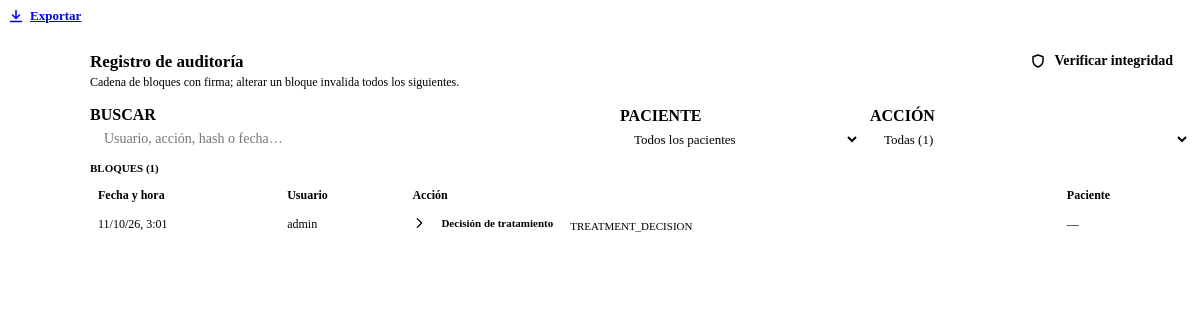
it: F2 (16) › la fila se despliega con el detalle y los hashes; la columna «Hash bloque» no existe
Expected: the text "abcdef0123456789abcdef" is not shown
Click the button "Decisión de tratamiento" at (487, 223), box left=412, top=215, right=562, bottom=231
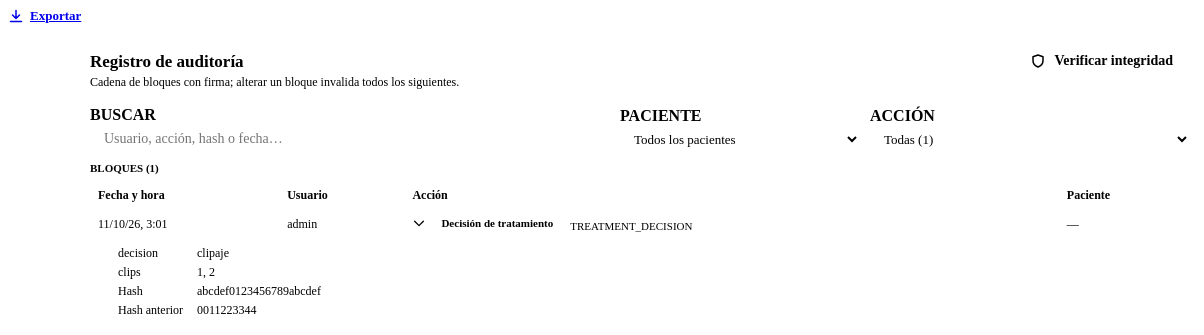
Result: the button "Decisión de tratamiento" is expanded at left=412, top=215, right=562, bottom=231
Result: the text "decision" is shown at left=118, top=246, right=158, bottom=260
Result: the text "clipaje" is shown at left=197, top=246, right=229, bottom=260
